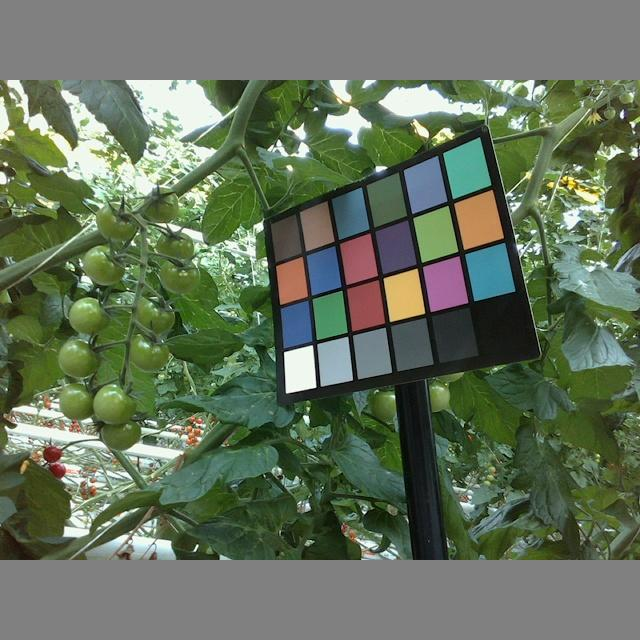green: (56, 339, 102, 381), (92, 381, 135, 424), (93, 201, 138, 240), (133, 294, 176, 334), (68, 297, 113, 335), (81, 247, 128, 282), (154, 258, 201, 293), (128, 333, 169, 372), (58, 384, 98, 419), (156, 227, 196, 262), (142, 187, 179, 224), (101, 416, 141, 450)
